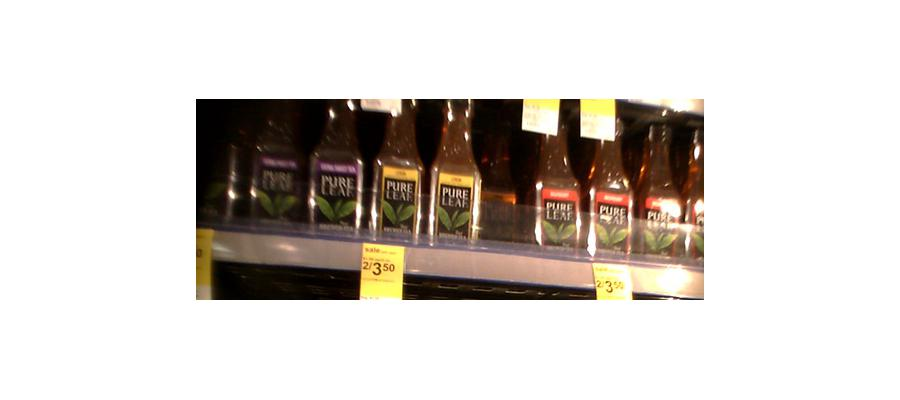bottle: (531, 105, 584, 250), (372, 92, 424, 239), (428, 92, 478, 243), (586, 107, 633, 256), (248, 104, 304, 227), (310, 96, 361, 230), (478, 102, 524, 243), (635, 116, 680, 258)
